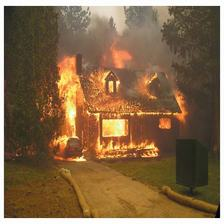fire: (48, 46, 185, 163)
